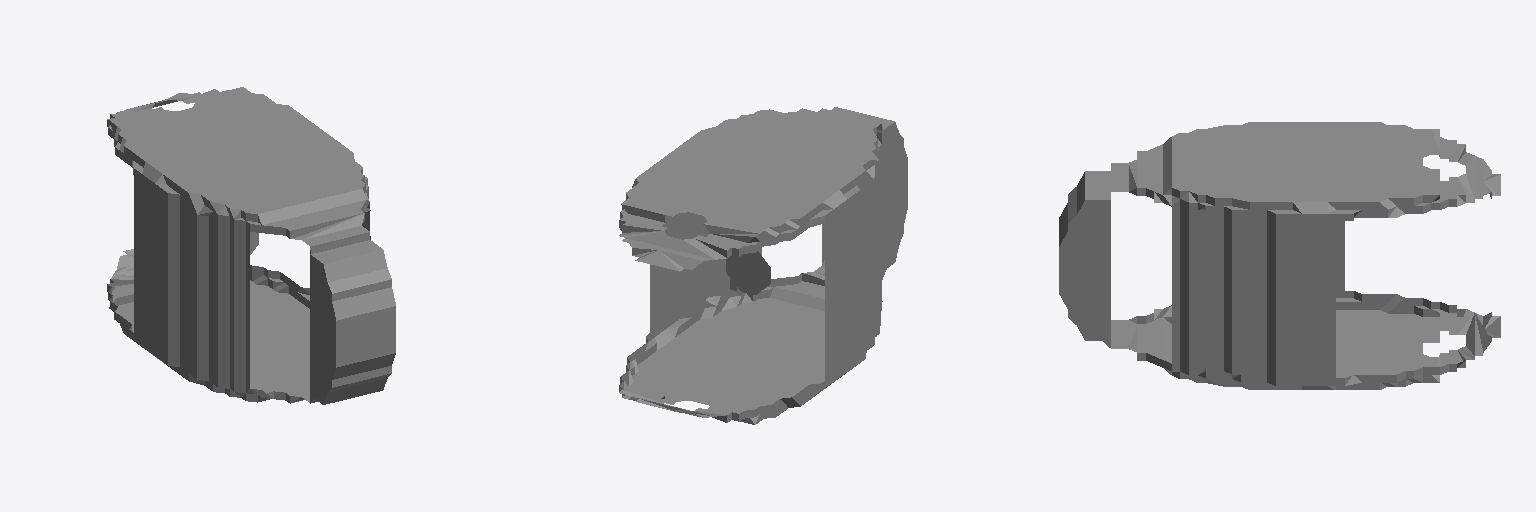
3 views of the same model, side by side, from view 1: azimuth 30°, elevation 25°; view 2: azimuth 150°, elevation 25°; view 3: azimuth 270°, elevation 25° (orthographic).
Parts seen in each view (by area): view 1: _STL_BINARY_; view 2: _STL_BINARY_; view 3: _STL_BINARY_.
Boxes of the visible parts, x1,y1,x2,y2 form: _STL_BINARY_: [107, 87, 395, 404]; _STL_BINARY_: [619, 107, 907, 424]; _STL_BINARY_: [1059, 122, 1500, 389].
Size of the model in its own units: 0.0024 by 0.0024 by 0.0051.